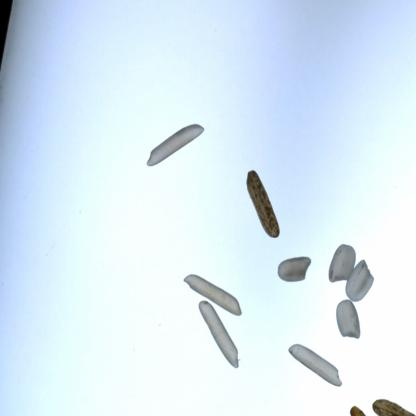Full: (134, 107, 202, 190), (235, 163, 298, 241), (192, 302, 247, 380), (178, 270, 246, 316), (289, 342, 353, 383), (270, 245, 316, 287), (331, 294, 371, 338), (344, 252, 376, 302), (324, 236, 353, 284), (376, 382, 416, 416), (341, 394, 376, 416)
